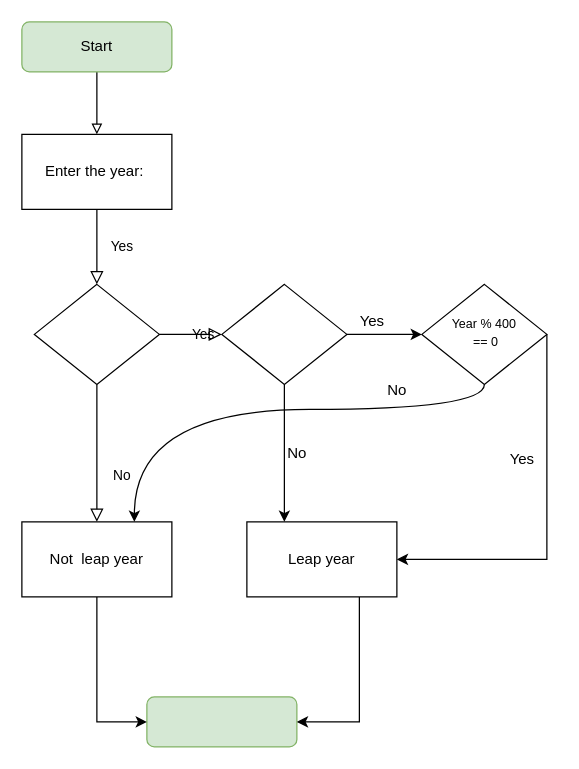
This 579x769 diagram has some shape labels left out. Each missing label, with the centre of its shape:
Stop: the point at 221,721
Year % 100 == 0: the point at 284,333
Year % 4 == 0: the point at 96,333
